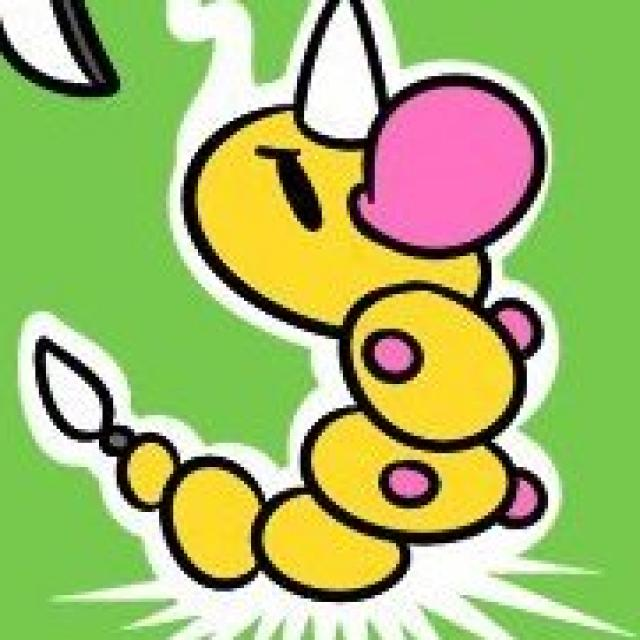Weedle: (160, 74, 559, 601)
